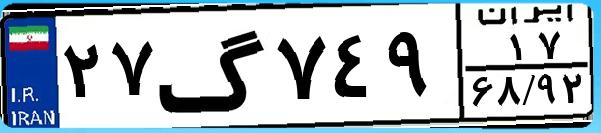1: (508, 27, 537, 80)
2: (57, 26, 110, 100), (560, 70, 590, 125)
4: (330, 28, 385, 110)
6: (470, 70, 495, 125)
7: (270, 28, 330, 110), (110, 28, 156, 98), (537, 27, 568, 80)
8: (495, 70, 520, 125)
9: (385, 28, 445, 110), (535, 70, 560, 125)
گ: (156, 12, 270, 120)
